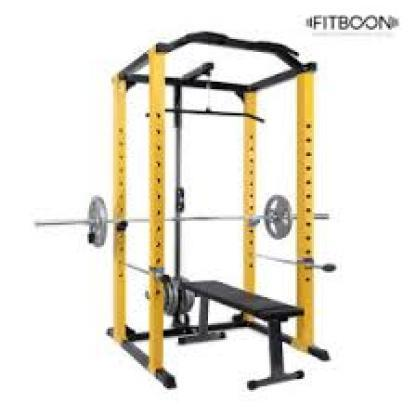smith machine: (35, 32, 337, 391)
